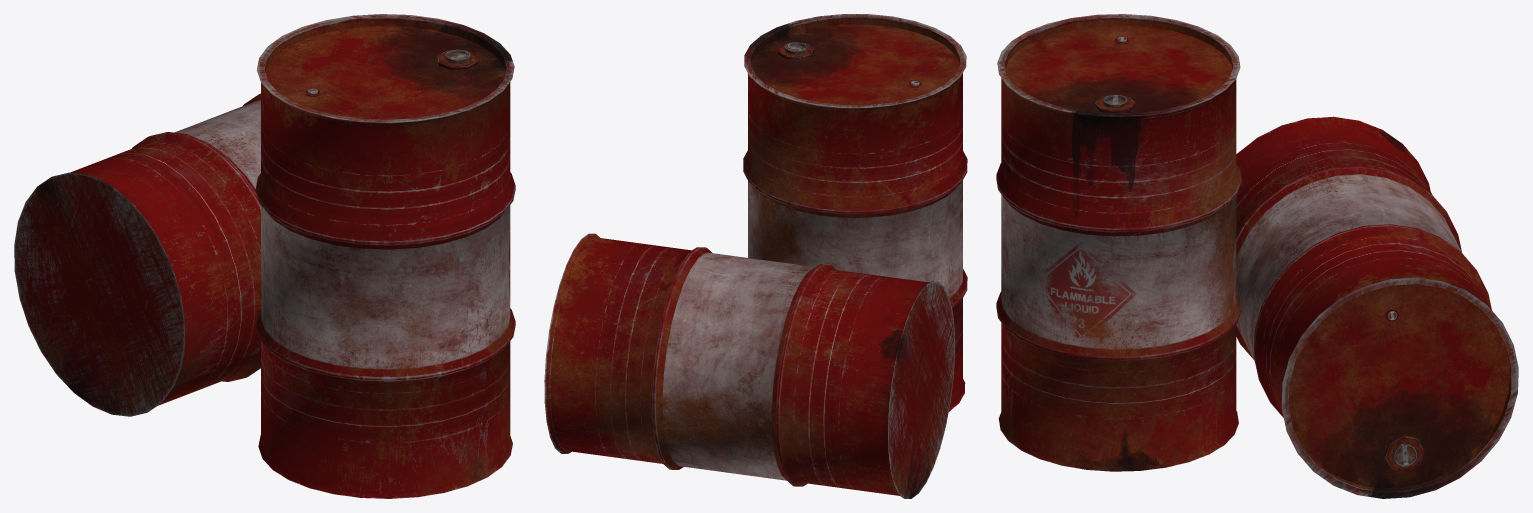
Rendered from oil_barrel.glb.
3 views of the same model, side by side, from view 1: azimuth 30°, elevation 25°; view 2: azimuth 150°, elevation 25°; view 3: azimuth 270°, elevation 25° (orthographic). The views are drawn at different scales.
Visible parts, largest first — view 1: barrel_oil, barrel_oil1; view 2: barrel_oil1, barrel_oil; view 3: barrel_oil, barrel_oil1.
Part boxes in pixels (x1,y1,x2,y2): barrel_oil: (255,14,515,498); barrel_oil1: (14,93,260,416); barrel_oil1: (544,233,954,498); barrel_oil: (743,14,967,411); barrel_oil: (996,14,1241,471); barrel_oil1: (1236,116,1518,498).
Bounding box in the file's own units: 0.997 × 0.9 × 1.2.
1 material, 1 textured.
